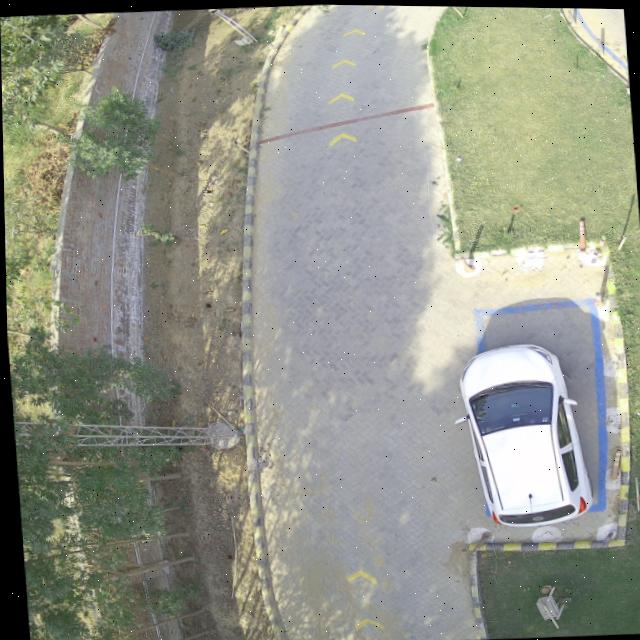car: (460, 340, 594, 526)
